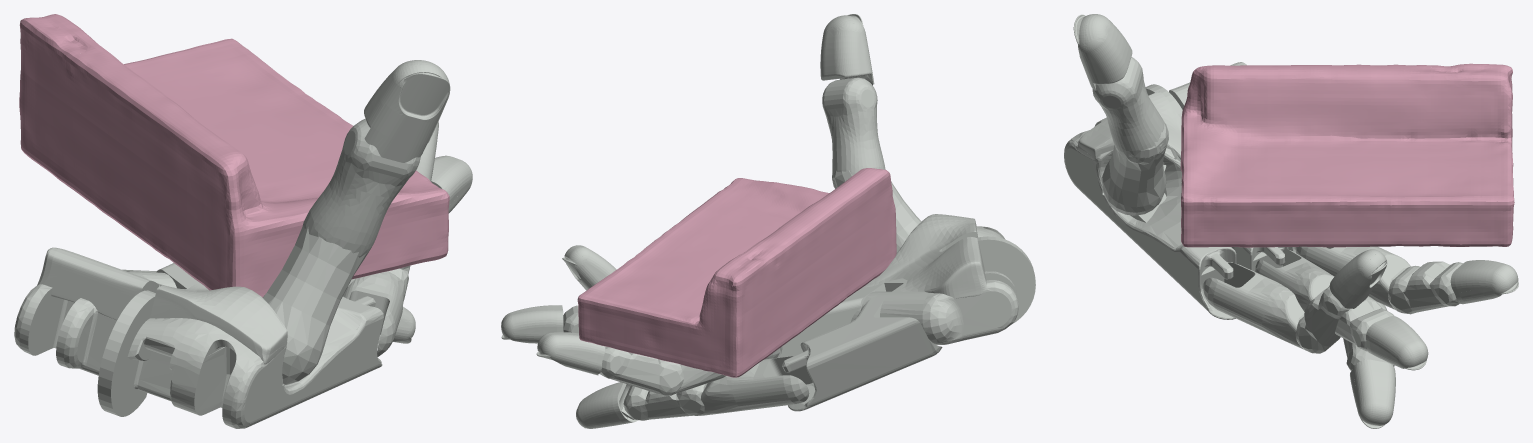
The picture shows the model from 3 angles, left to right: view 1: azimuth 30°, elevation 25°; view 2: azimuth 150°, elevation 25°; view 3: azimuth 270°, elevation 25°; orthographic projection. The views are drawn at different scales.
Parts seen in each view (by area): view 1: hand_isaac_q, world; view 2: hand_isaac_q, world; view 3: world, hand_isaac_q.
Part boxes in pixels (<box>): hand_isaac_q: <box>14,60,472,428</box>; world: <box>19,14,449,297</box>; hand_isaac_q: <box>501,14,1035,428</box>; world: <box>577,168,896,377</box>; world: <box>1180,63,1514,247</box>; hand_isaac_q: <box>1064,14,1518,428</box>.
Size of the model in its own units: 0.2011 by 0.153 by 0.1804.
